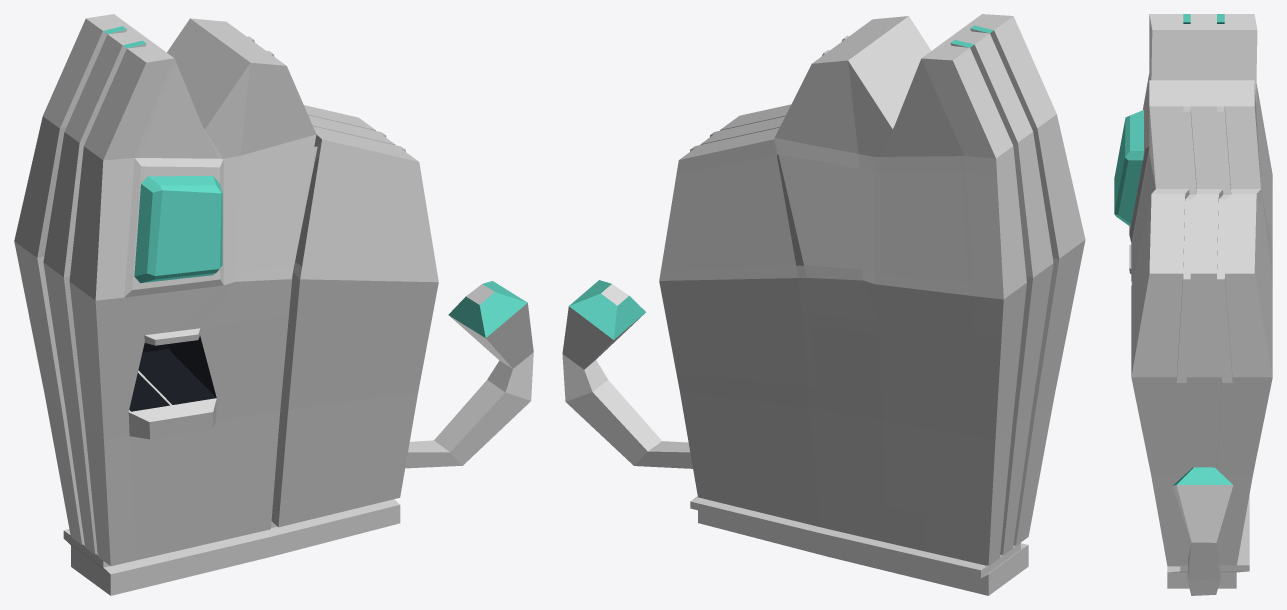
File: Fridge1.fbx
The picture shows the model from 3 angles, left to right: view 1: azimuth 30°, elevation 25°; view 2: azimuth 150°, elevation 25°; view 3: azimuth 270°, elevation 25°; orthographic projection. The views are drawn at different scales.
Visible parts, largest first — view 1: Cube.012; view 2: Cube.012; view 3: Cube.012.
Part boxes in pixels (x1,y1,x2,y2): Cube.012: [14, 14, 533, 595]; Cube.012: [562, 14, 1085, 595]; Cube.012: [1114, 14, 1272, 595].
Size of the model in its own units: 2.95 by 3.19 by 0.9869.
